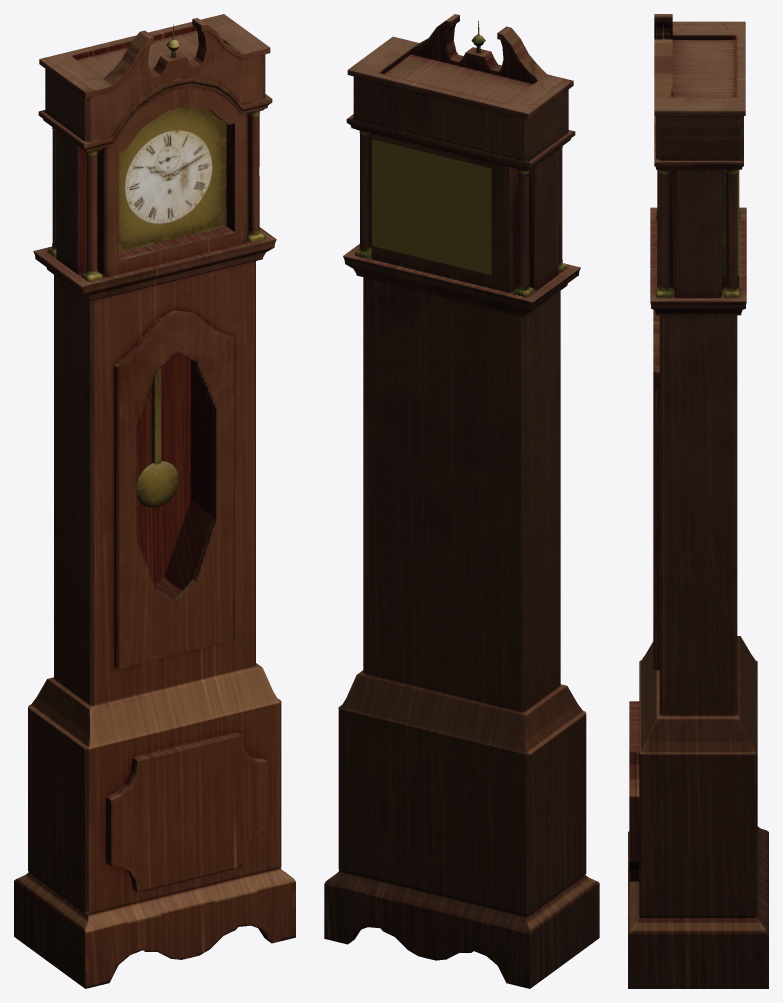
Rendered from GrandfatherClockWylam.fbx.
3 views of the same model, side by side, from view 1: azimuth 30°, elevation 25°; view 2: azimuth 150°, elevation 25°; view 3: azimuth 270°, elevation 25° (orthographic). The views are drawn at different scales.
Parts seen in each view (by area): view 1: pCube14; view 2: pCube14; view 3: pCube14.
Boxes of the visible parts, <box> form: pCube14: <box>14,14,295,988</box>; pCube14: <box>324,14,599,988</box>; pCube14: <box>628,14,768,988</box>.
Size of the model in its own units: 40.9 by 172 by 24.
